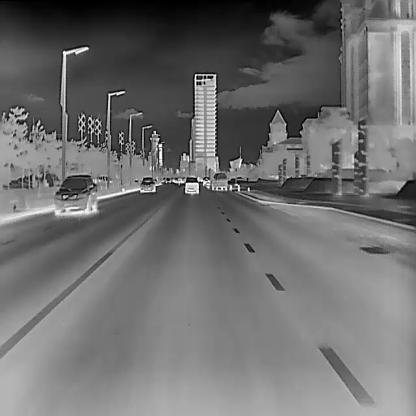car: (53, 173, 97, 216), (183, 176, 199, 194), (211, 172, 226, 190), (139, 176, 155, 192), (202, 176, 209, 186)
